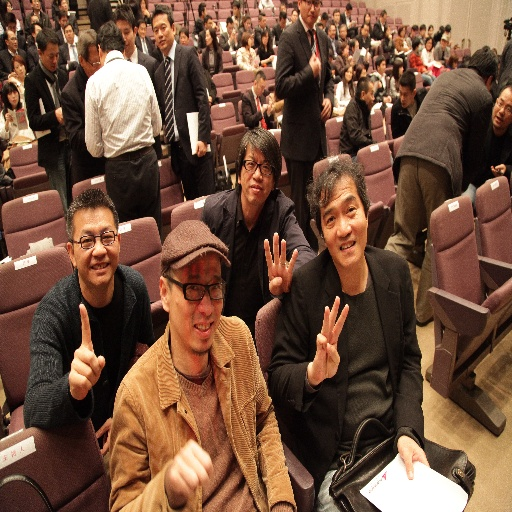hand: (66, 303, 106, 400), (310, 294, 349, 380), (165, 437, 214, 504), (265, 241, 302, 304), (396, 436, 430, 481), (309, 48, 320, 80), (320, 98, 331, 122), (194, 138, 207, 158), (490, 164, 507, 177), (54, 107, 63, 128), (3, 109, 11, 121), (260, 102, 267, 113), (267, 103, 271, 115)
